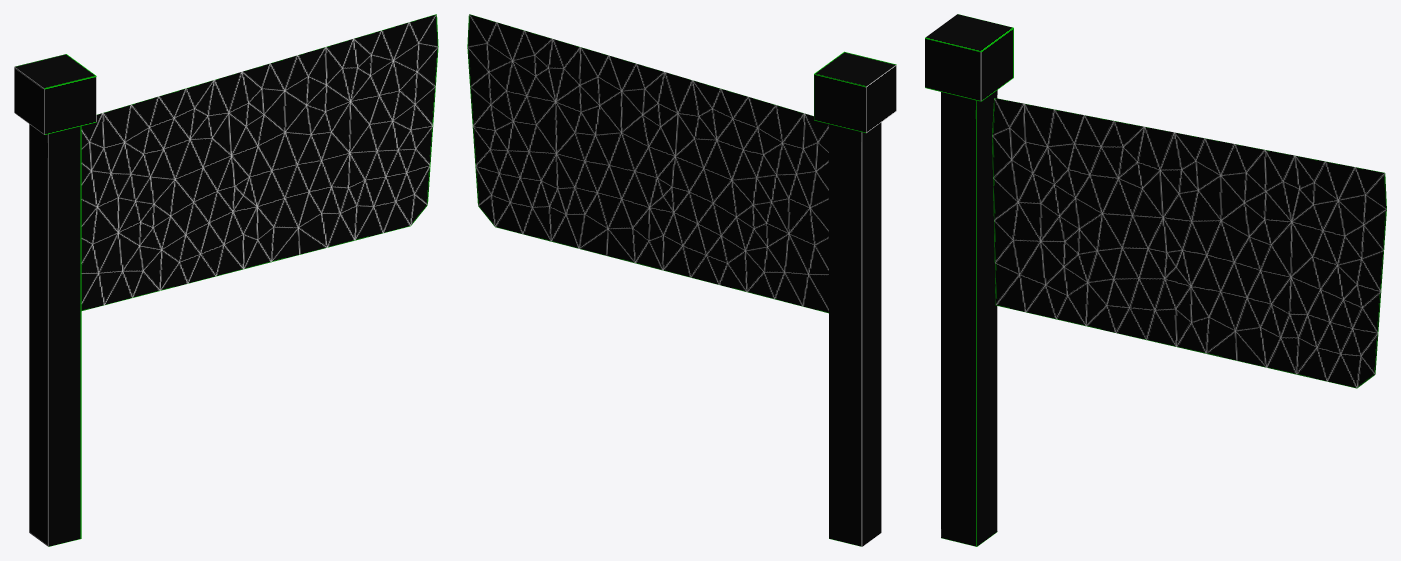
Rendered from Flag.FBX.
The picture shows the model from 3 angles, left to right: view 1: azimuth 30°, elevation 25°; view 2: azimuth 150°, elevation 25°; view 3: azimuth 330°, elevation 25°; orthographic projection. The views are drawn at different scales.
Parts seen in each view (by area): view 1: FlagCloth, FlagPole; view 2: FlagCloth, FlagPole; view 3: FlagCloth, FlagPole.
Part boxes in pixels (x1,y1,x2,y2): FlagCloth: [81, 14, 438, 310]; FlagPole: [14, 54, 96, 546]; FlagCloth: [467, 14, 828, 313]; FlagPole: [814, 51, 896, 546]; FlagCloth: [992, 98, 1386, 388]; FlagPole: [925, 14, 1013, 546].
Bounding box in the file's own units: 36.42 × 39.37 × 4.62.
1 material, 1 textured.
